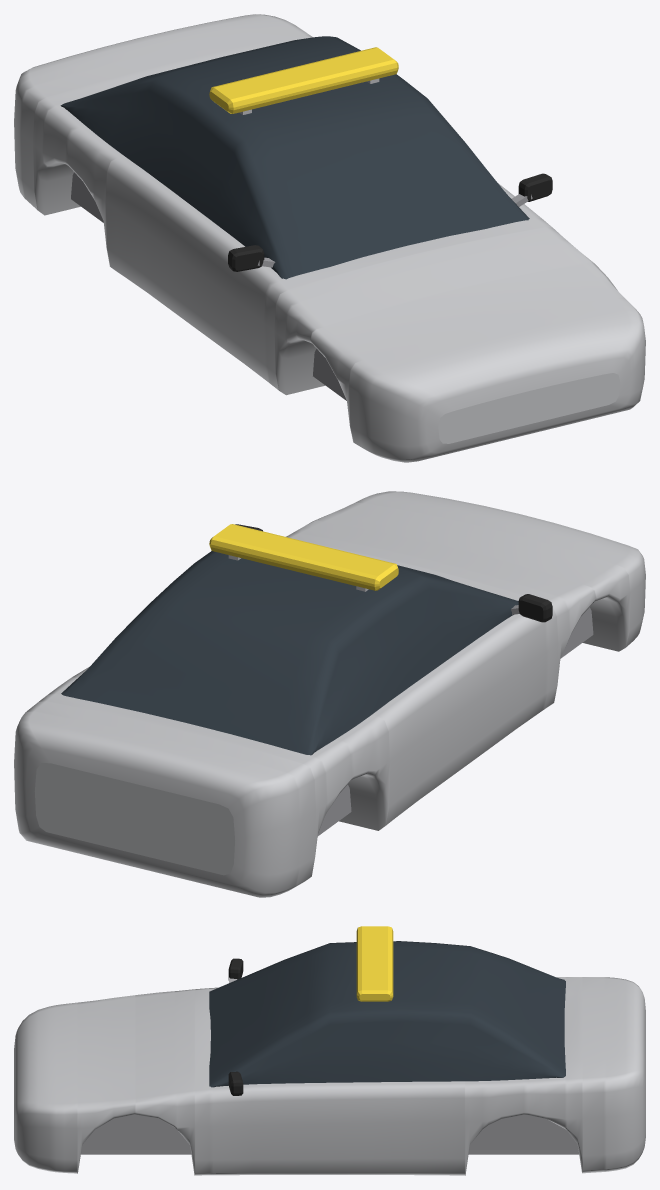
File: vehicle_nypd.glb
The picture shows the model from 3 angles, top to bottom: view 1: azimuth 30°, elevation 25°; view 2: azimuth 150°, elevation 25°; view 3: azimuth 270°, elevation 25°; orthographic projection. The views are drawn at different scales.
Visible parts, largest first — view 1: nypd; view 2: nypd; view 3: nypd.
Part boxes in pixels (x1,y1,x2,y2): nypd: (14, 14, 645, 462); nypd: (14, 491, 645, 897); nypd: (14, 926, 645, 1175).
Bounding box in the file's own units: 2.11 × 1.31 × 4.5.
